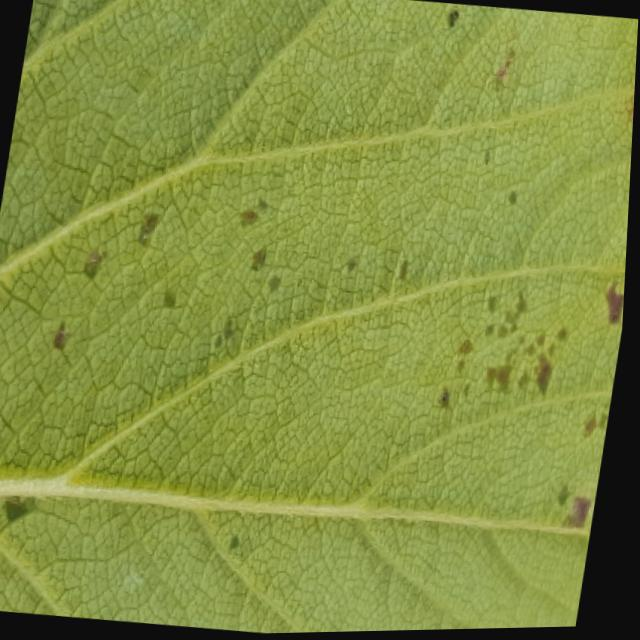Angular Leafspot: (0, 3, 639, 608)
